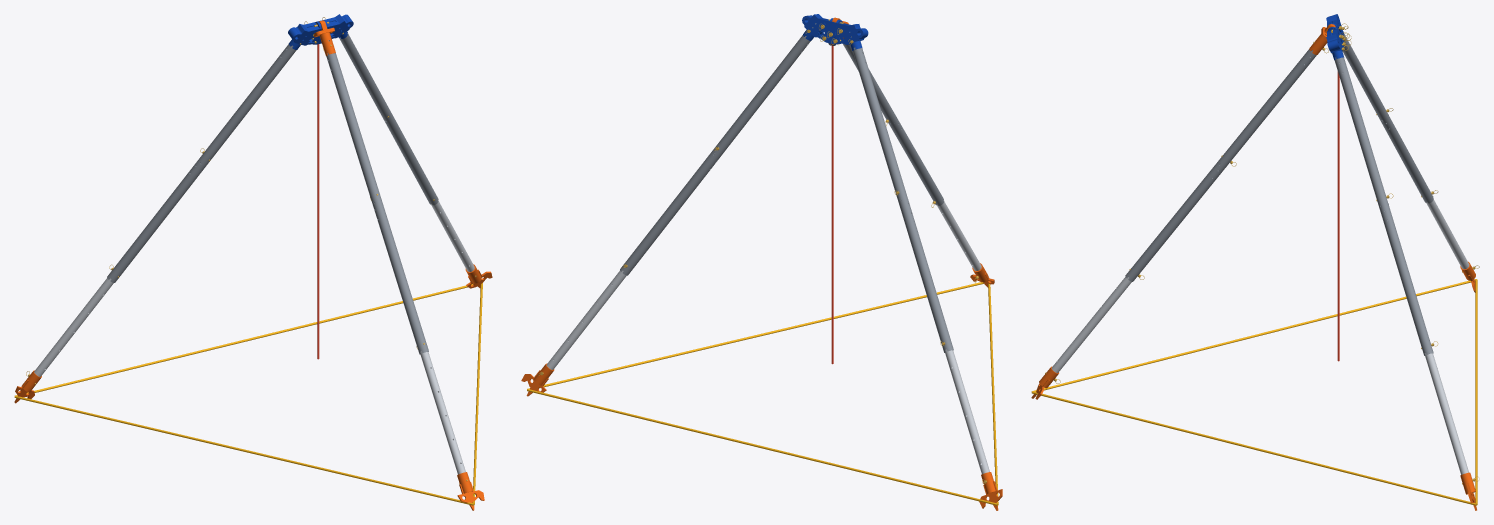
Rendered from tripode_armado.glb.
3 renders of one model, left to right at view 1: azimuth 30°, elevation 25°; view 2: azimuth 150°, elevation 25°; view 3: azimuth 270°, elevation 25°, orthographic. The views are drawn at different scales.
Parts seen in each view (by area): view 1: pe1 (×3), pe0 (×3), pi (×3), maniota1, maniota0, aframe, linea_carga, maniota2; view 2: pe1 (×3), pe0 (×3), pi (×3), maniota0, aframe, maniota2, linea_carga, maniota1; view 3: pe1 (×3), pe0 (×3), pi (×3), maniota2, maniota1, linea_carga, maniota0, aframe.
Part boxes in pixels (box(x1,y1,x2,y2)): pe1 (×3): box(107, 116, 438, 354); pe0 (×3): box(198, 33, 392, 204); pi (×3): box(34, 201, 474, 474); maniota1: box(14, 395, 473, 505); maniota0: box(15, 283, 473, 395); aframe: box(288, 14, 353, 49); linea_carga: box(317, 44, 319, 359); maniota2: box(472, 283, 482, 505); pe1 (×3): box(620, 118, 953, 352); pe0 (×3): box(711, 23, 907, 201); pi (×3): box(546, 202, 989, 474); maniota0: box(527, 389, 997, 505); aframe: box(802, 14, 868, 50); maniota2: box(527, 282, 983, 389); linea_carga: box(831, 44, 833, 364); maniota1: box(988, 283, 998, 505); pe1 (×3): box(1125, 114, 1433, 355); pe0 (×3): box(1217, 34, 1388, 207); pi (×3): box(1051, 199, 1469, 474); maniota2: box(1031, 391, 1476, 505); maniota1: box(1031, 279, 1475, 391); linea_carga: box(1337, 71, 1339, 361); maniota0: box(1475, 279, 1477, 505); aframe: box(1326, 14, 1344, 60).
Bounding box in the file's own units: 3286 × 2504 × 2710.
